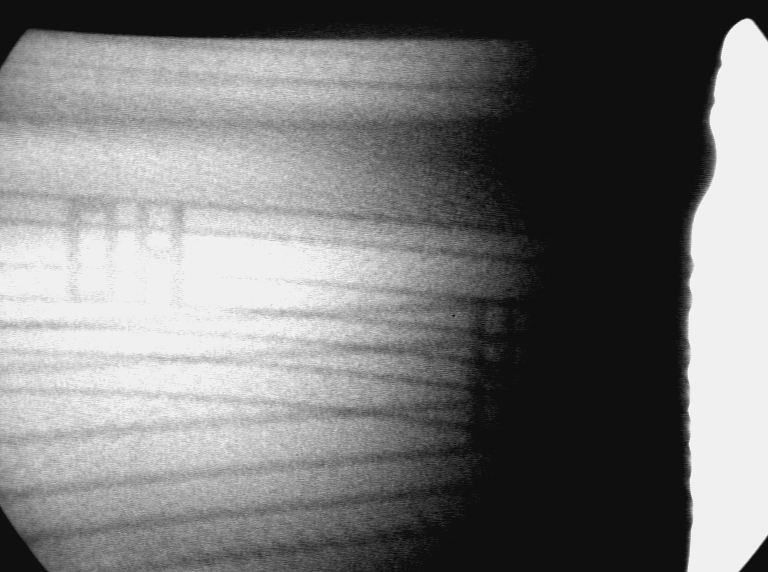defect: (474, 293, 562, 429)
